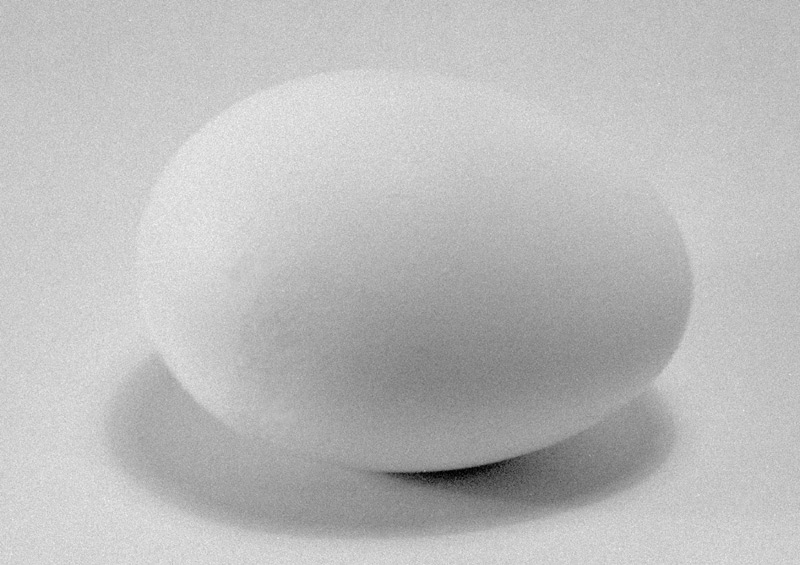Egg: (112, 36, 712, 490)
